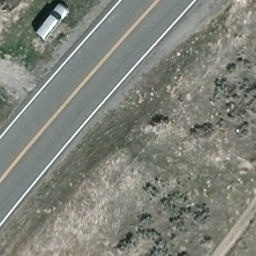car: (36, 4, 72, 42)
